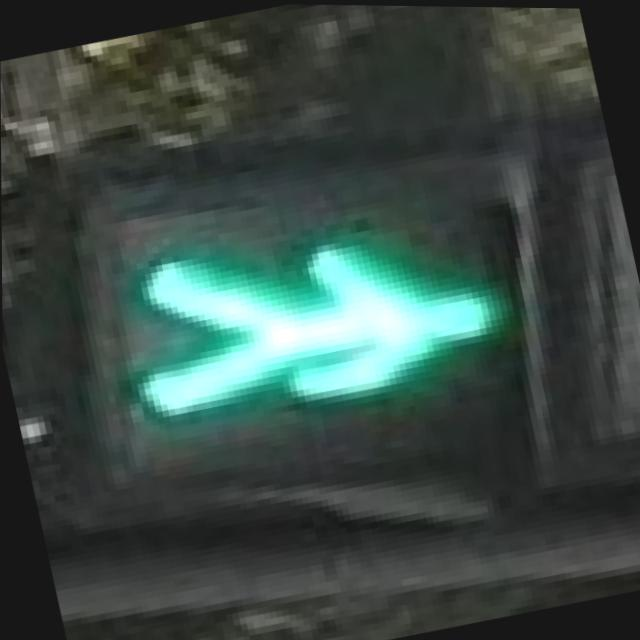green_light: (75, 129, 592, 534)
